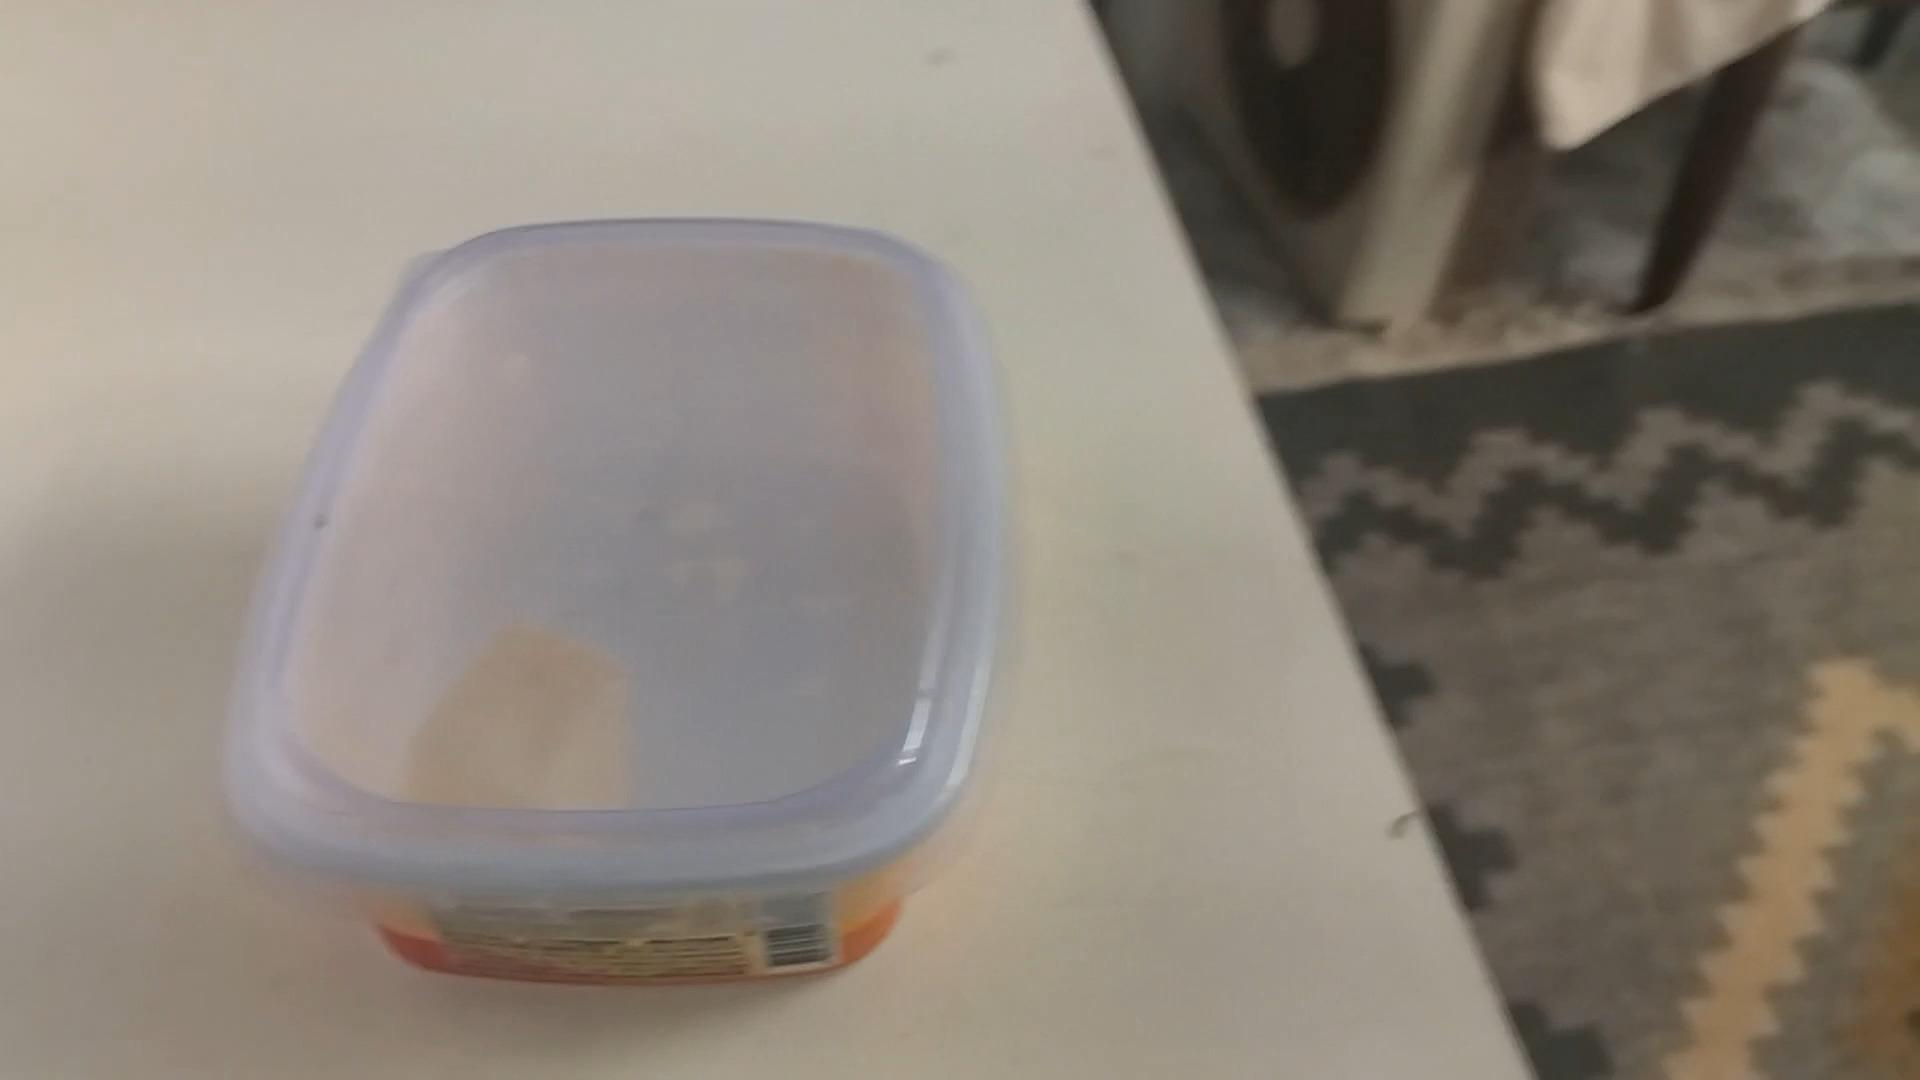butter: (227, 229, 1001, 989)
